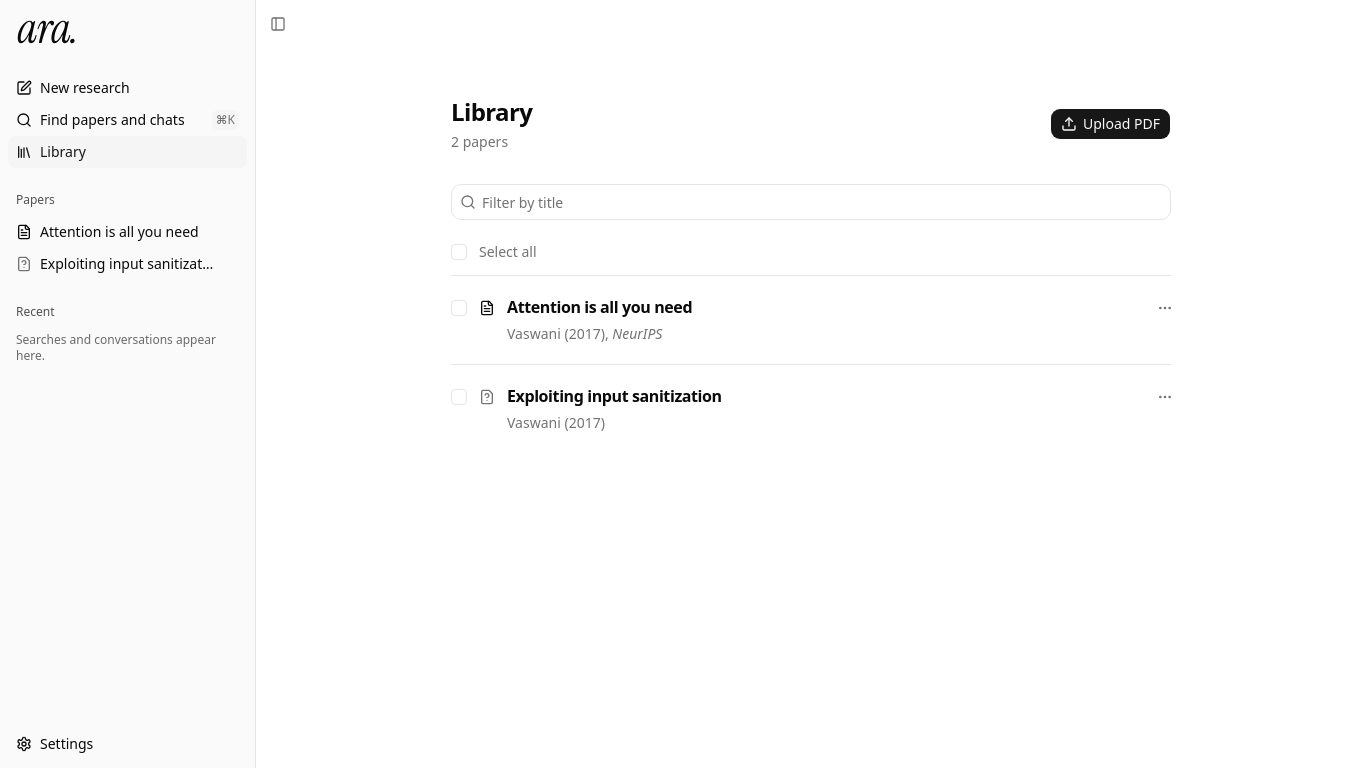
Test case: Given a conversation still writing an answer, Then the dialog says to wait and cannot delete yet
What coordinates should you click on to do the following:
click the button named "Actions for “Attention is all you need”"
I would click on:
 (1165, 308)
Its box is [1151, 294, 1179, 322].
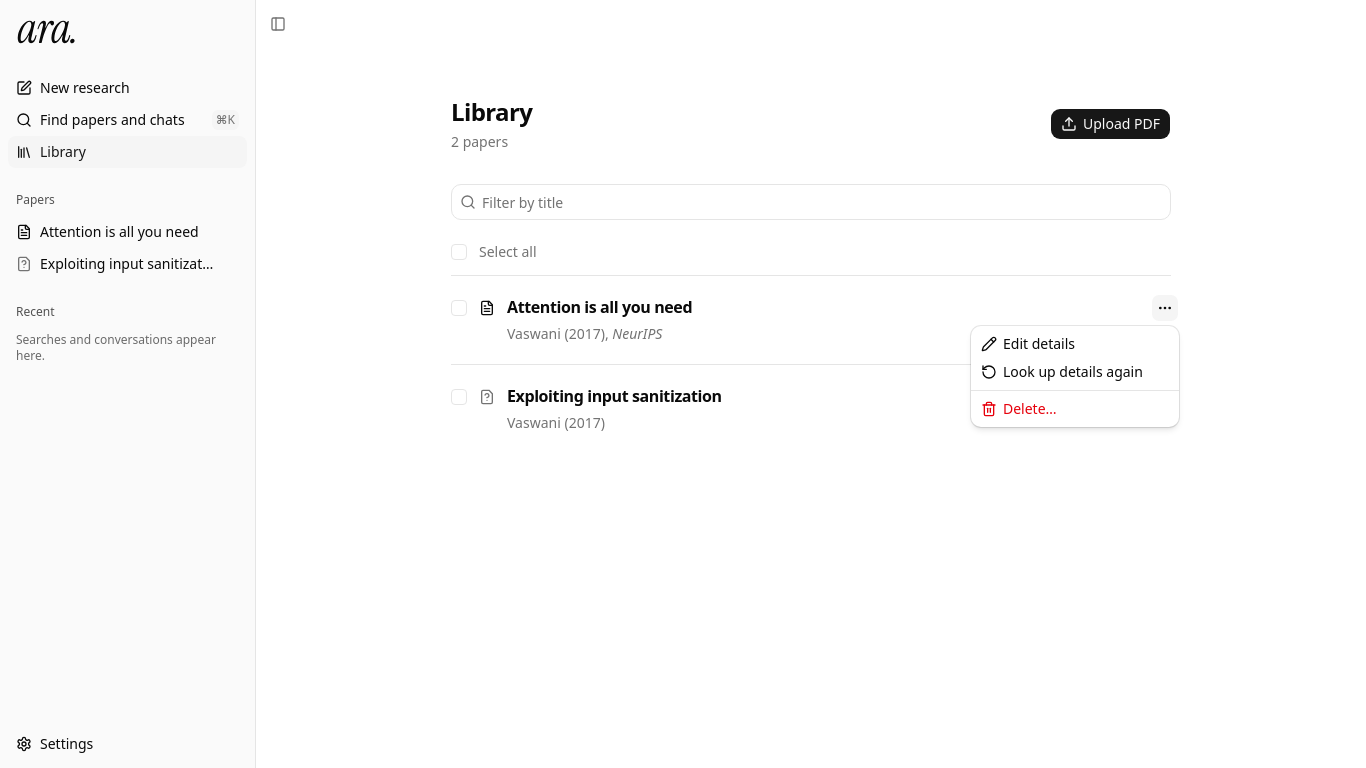
What coordinates should you click on to do the following:
click the menu item "Delete…"
I would click on:
 (1019, 408)
Its box is [981, 399, 1057, 418].
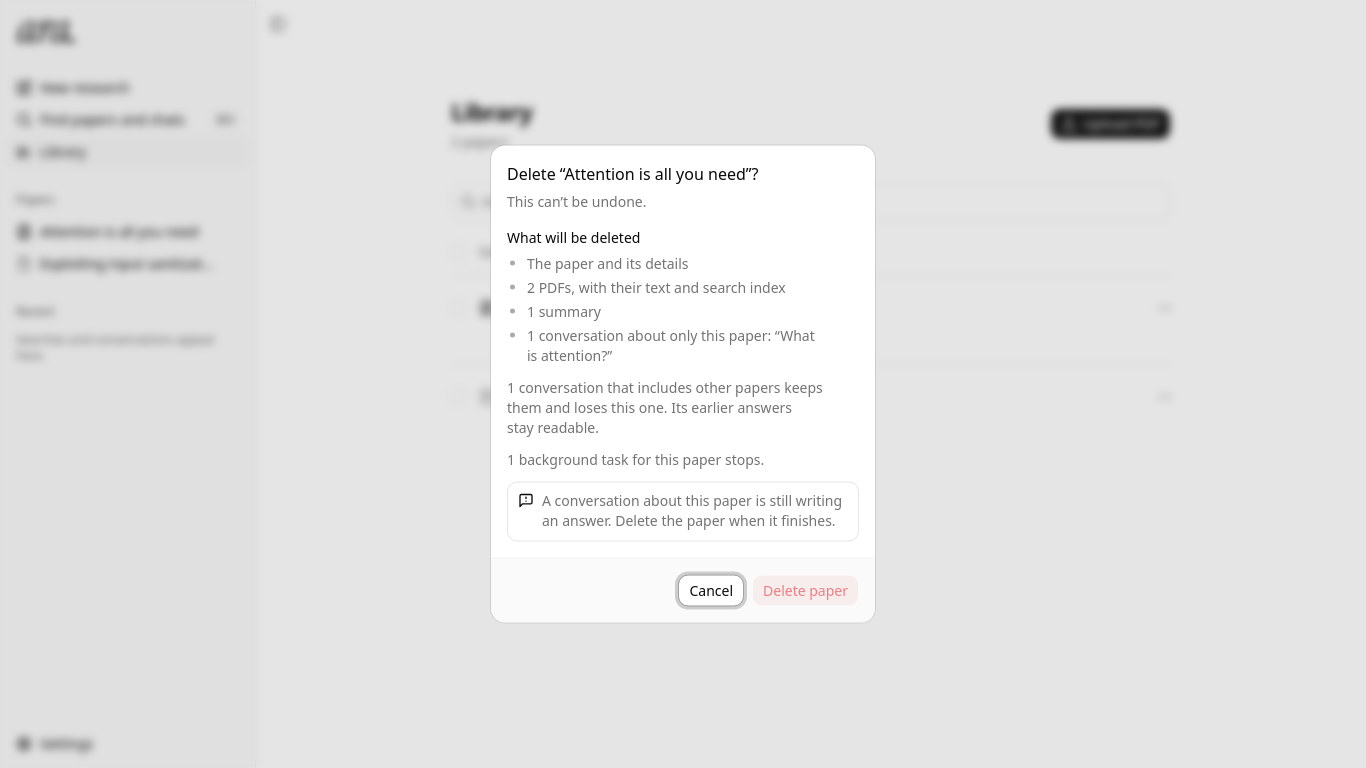
Expected: the text "A conversation about this paper is still writing an answer. Delete the paper when it finishes." is shown, [542, 490, 842, 530]
Expected: the button "Delete paper" is disabled, [752, 574, 859, 606]
